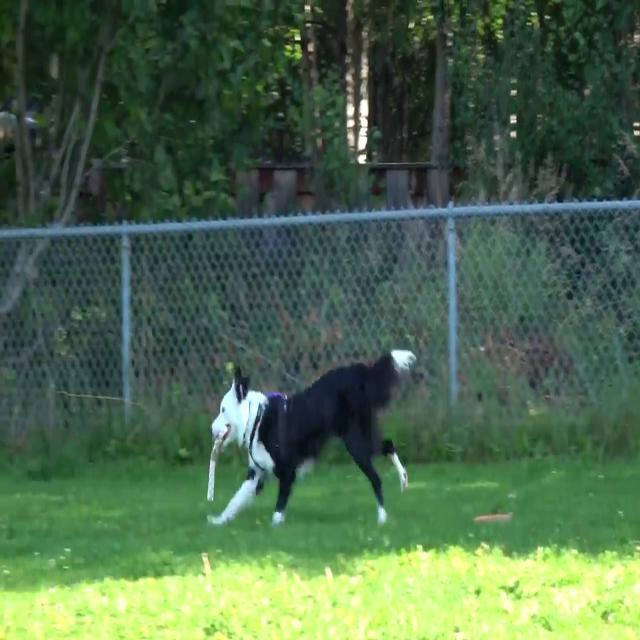Dog: (207, 350, 416, 524)
